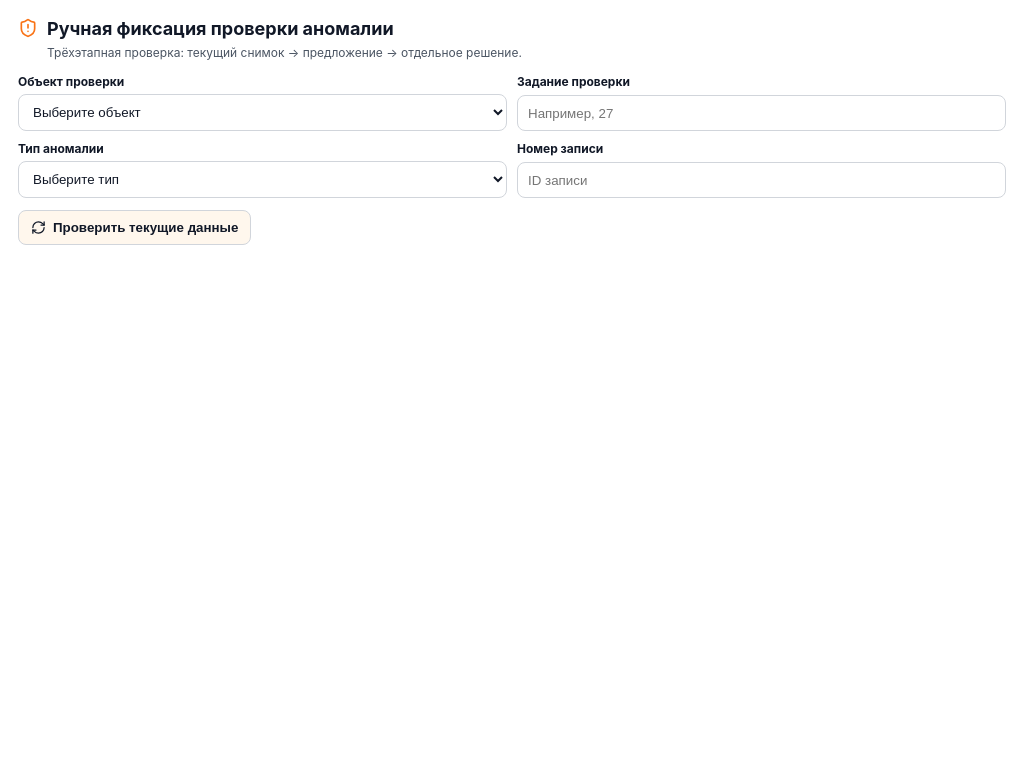
Test: HumanApprovedActionReviewPanel › invalidates a prepared proposal when the selected project leaves the loaded context
The image size is (1024, 768).
Select "Школа № 8" in the dropdown labelled "Объект проверки" at x=262, y=112, box [18,94,507,131]
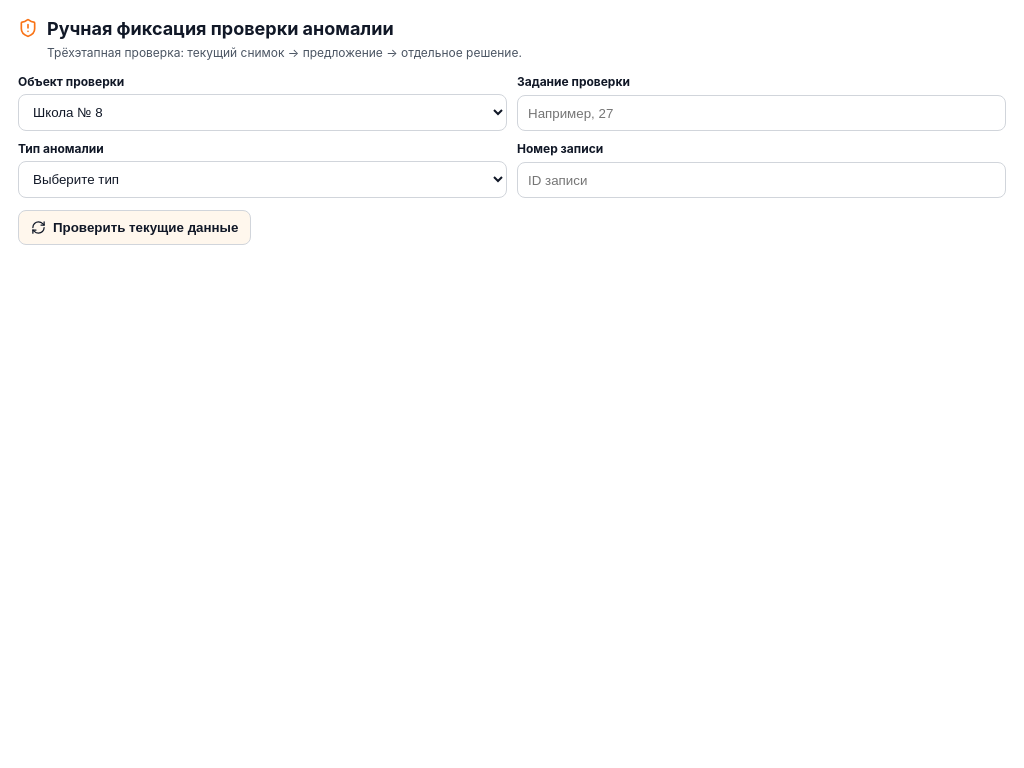
Type "27" into the field labelled "Задание проверки".
click(762, 113); type("27")  # box [517,95,1006,131]
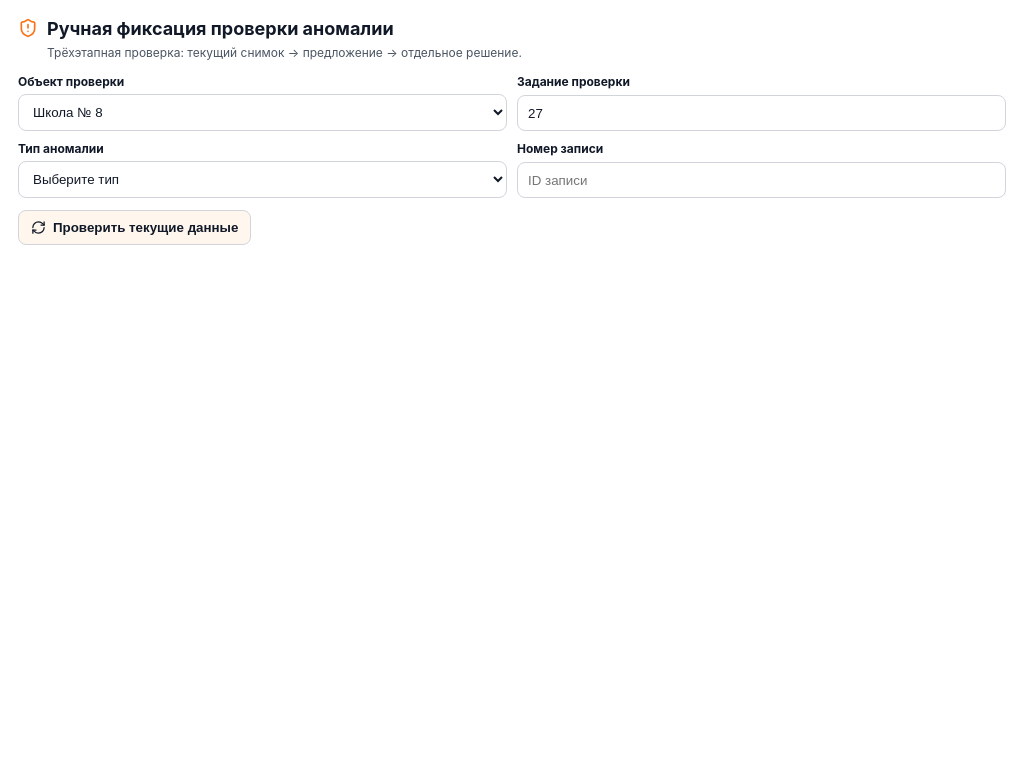
Select "Накладная относится к другому объекту" in the dropdown labelled "Тип аномалии" at x=262, y=180, box [18,161,507,198]
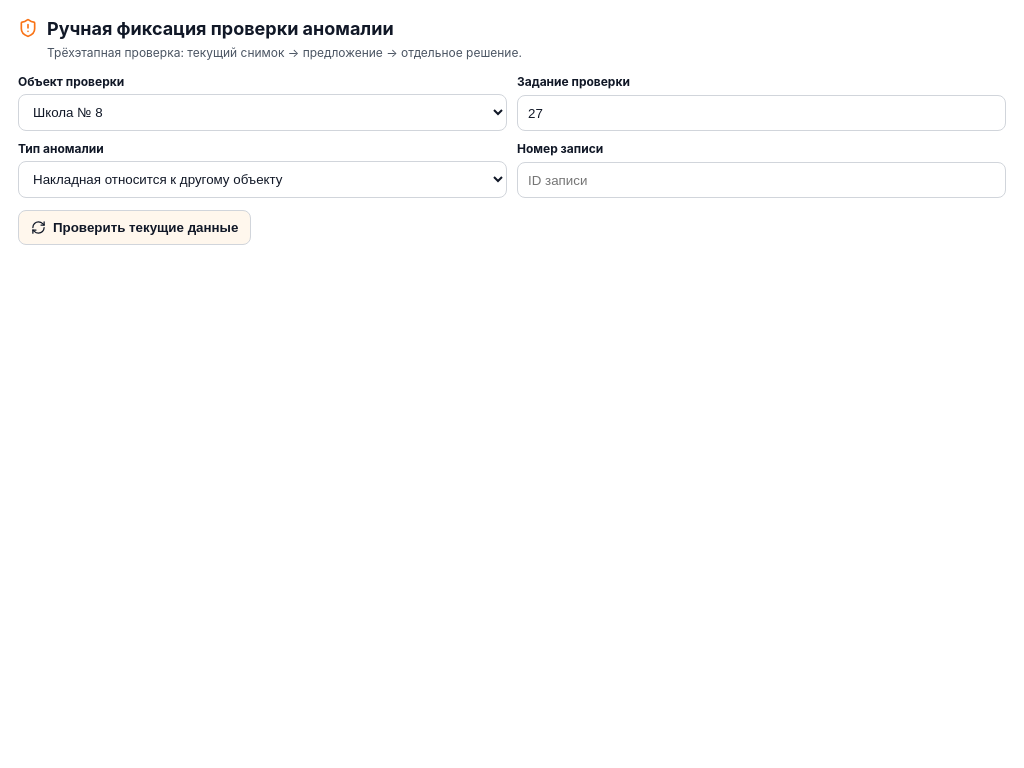
Type "91" into the field labelled "Номер записи".
click(762, 180); type("91")  # box [517,162,1006,198]
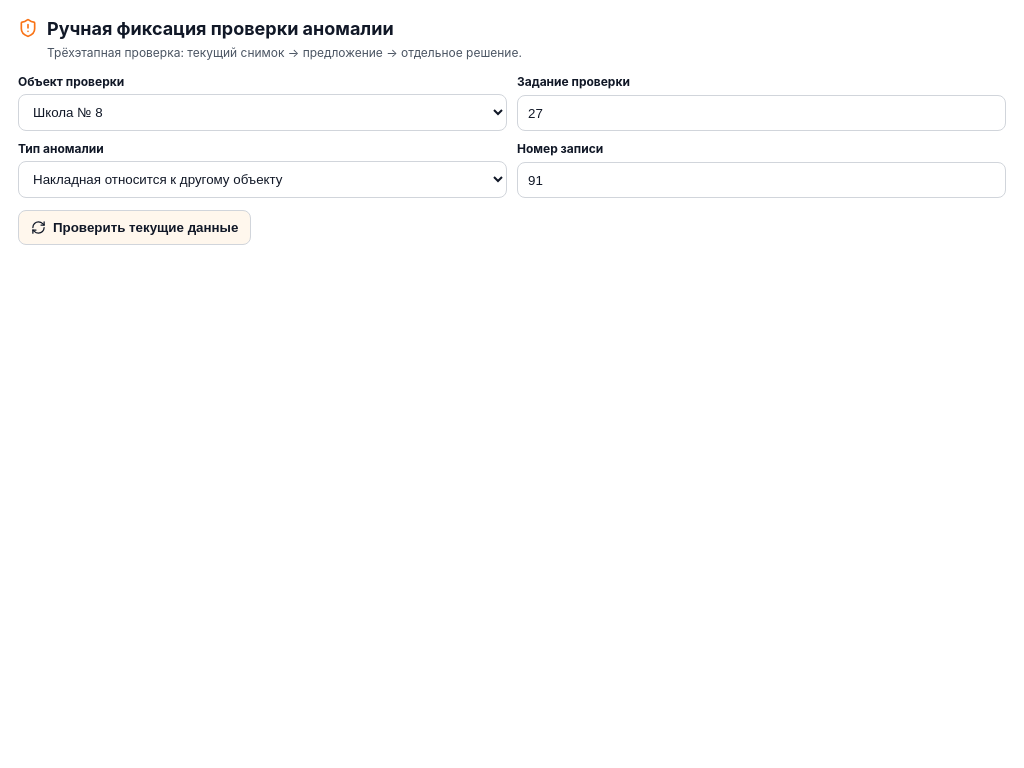
Click the button "Проверить текущие данные".
click(135, 228)  # box [18,210,251,245]
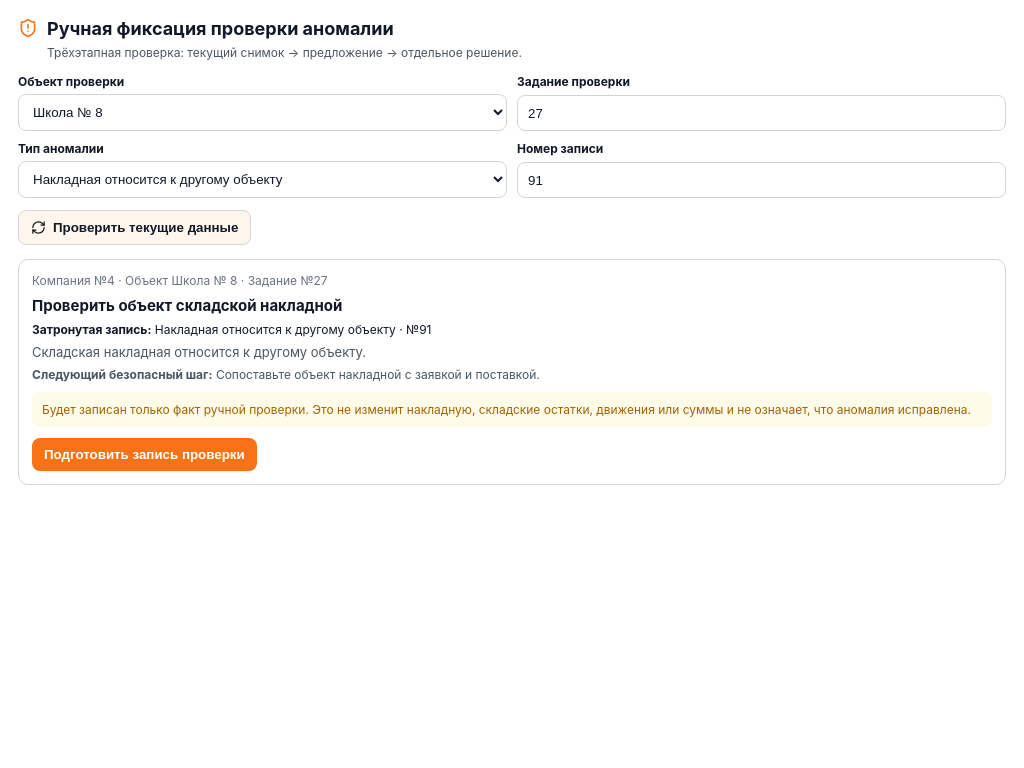
Expected: the heading "Проверить объект складской накладной" is shown, [32,296,342,315]
Click the button "Подготовить запись проверки".
click(144, 454)  # box [32,438,257,471]
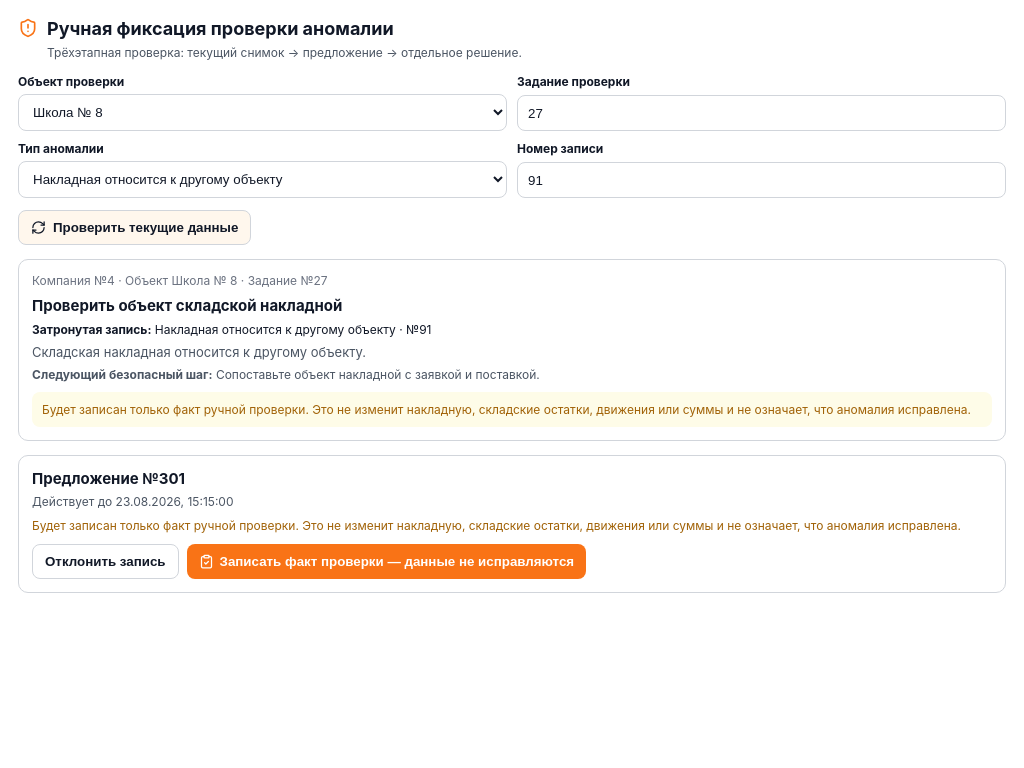
Expected: the heading "Предложение №301" is shown, [32,469,185,488]
